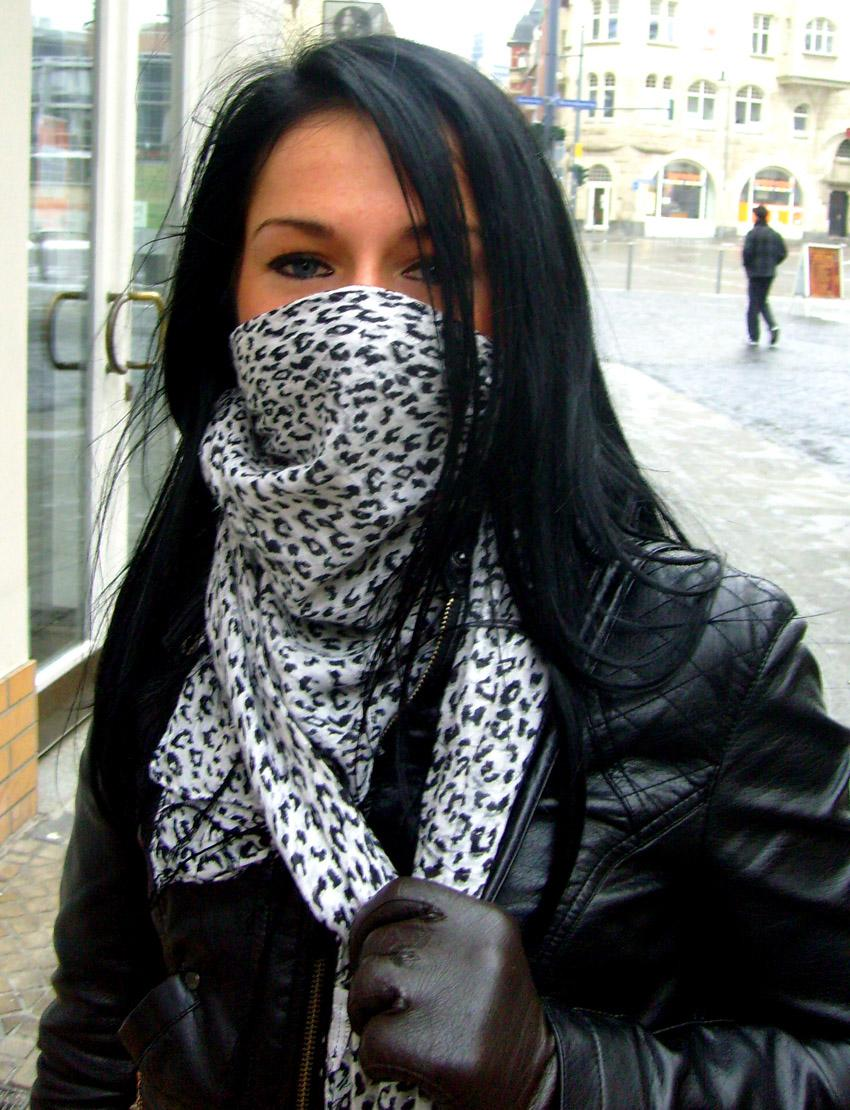OK: (241, 214, 491, 464)
